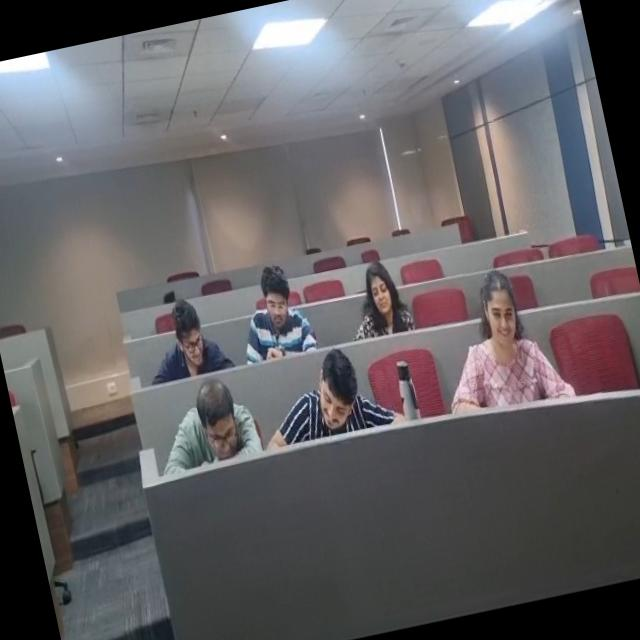cheating: (449, 264, 552, 402), (183, 372, 262, 469), (148, 279, 226, 376)
non-cheating: (230, 240, 316, 364), (292, 340, 380, 439), (339, 256, 417, 344)
